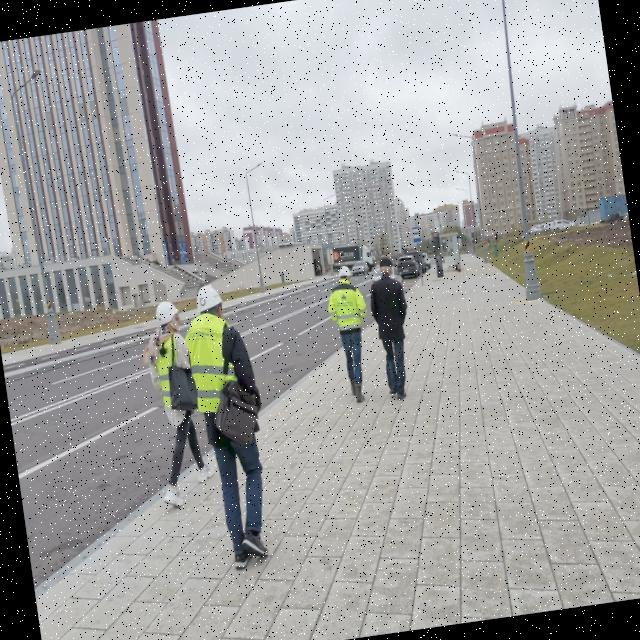Helmet: (194, 285, 226, 324), (155, 300, 183, 331), (338, 266, 354, 284)
NoHelmet: (380, 258, 395, 277)
